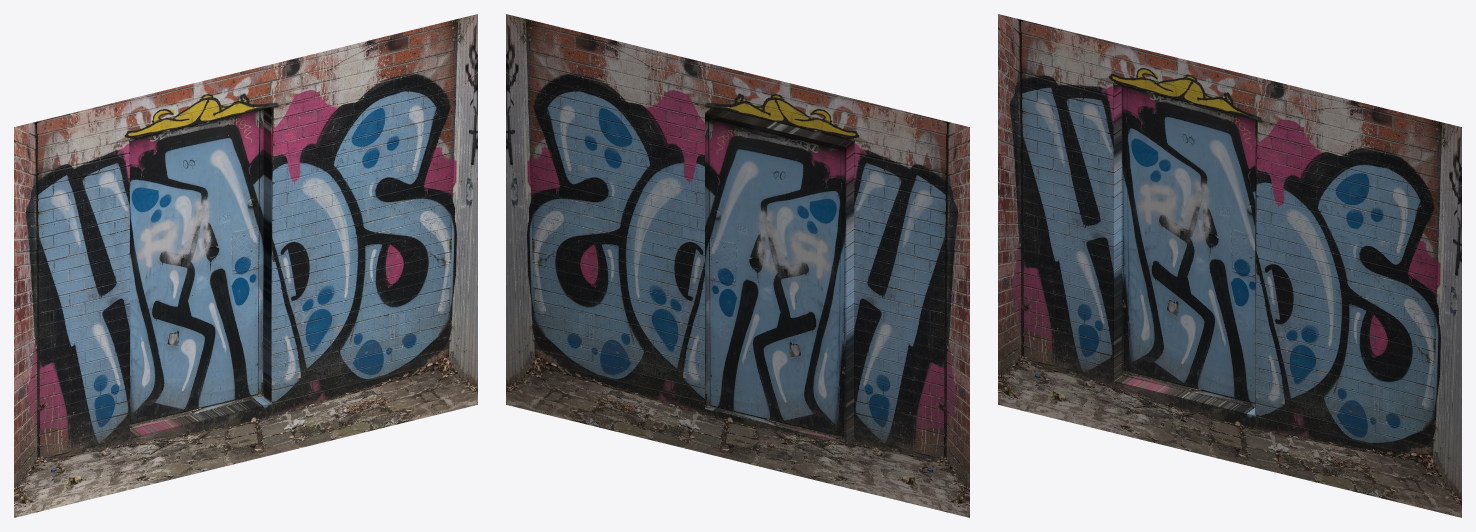
The model's file is field2.glb.
The picture shows the model from 3 angles, left to right: view 1: azimuth 30°, elevation 25°; view 2: azimuth 150°, elevation 25°; view 3: azimuth 330°, elevation 25°; orthographic projection.
Visible parts, largest first — view 1: graffiti-5979711_960_720; view 2: graffiti-5979711_960_720; view 3: graffiti-5979711_960_720.
Part boxes in pixels (<box>): graffiti-5979711_960_720: <box>14,14,477,517</box>; graffiti-5979711_960_720: <box>506,14,969,517</box>; graffiti-5979711_960_720: <box>998,14,1461,517</box>.
Bounding box in the file's own units: 32.93 × 26.51 × 0.9514.
1 material, 1 textured.
